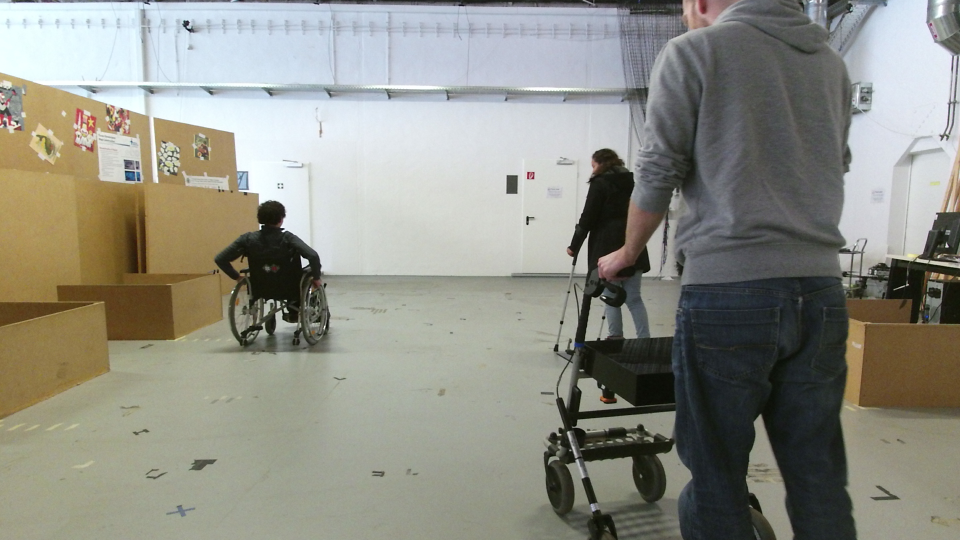crutches: (545, 142, 653, 367)
wheelchair: (209, 188, 332, 355)
